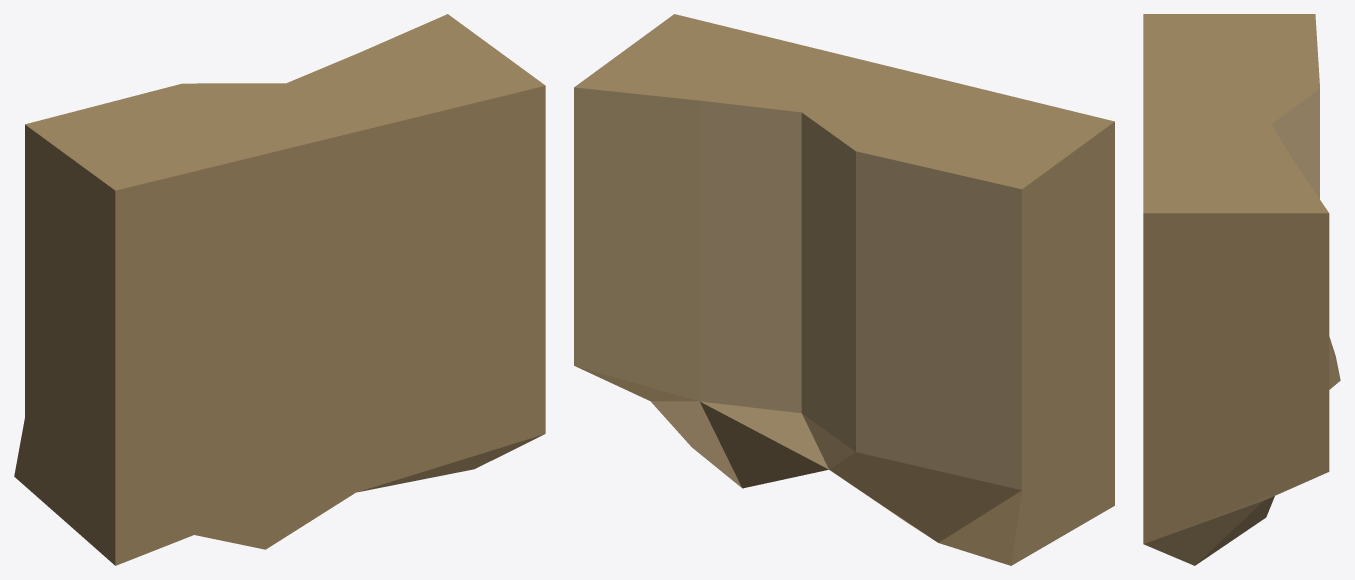
File: guard_desert_1.fbx
3 renders of one model, left to right at view 1: azimuth 30°, elevation 25°; view 2: azimuth 150°, elevation 25°; view 3: azimuth 270°, elevation 25°, orthographic. The views are drawn at different scales.
Parts seen in each view (by area): view 1: Cube.002; view 2: Cube.002; view 3: Cube.002.
Boxes of the visible parts, <box> form: Cube.002: <box>14,14,545,565</box>; Cube.002: <box>574,14,1114,565</box>; Cube.002: <box>1143,14,1340,565</box>.
Size of the model in its own units: 1019 by 895 by 426.
